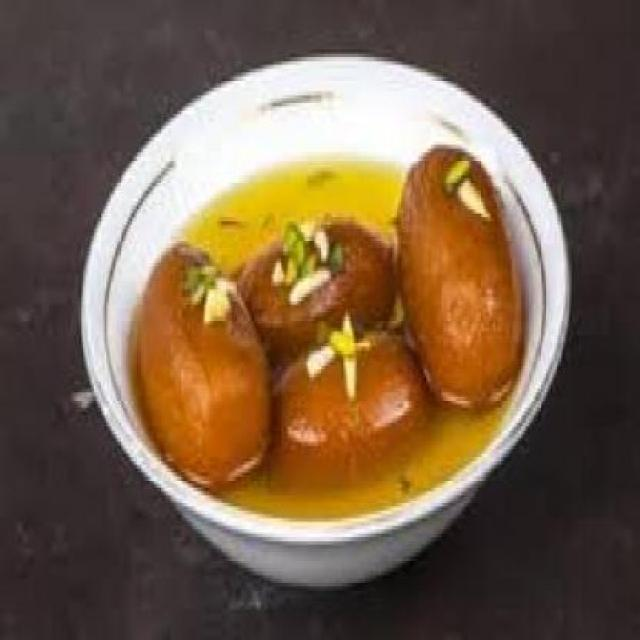gulab_jamun: (137, 243, 271, 491), (397, 148, 518, 409), (272, 331, 423, 489), (238, 223, 396, 368)
